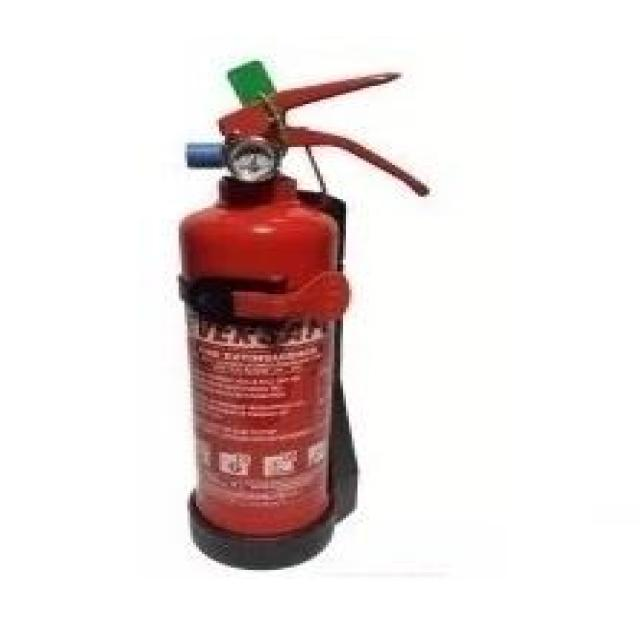fire_extinguisher: (172, 56, 425, 570)
